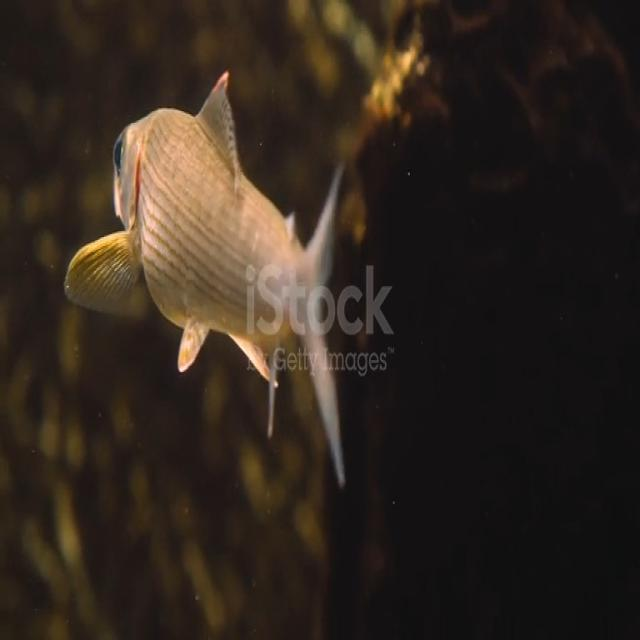fish: (67, 75, 352, 491)
